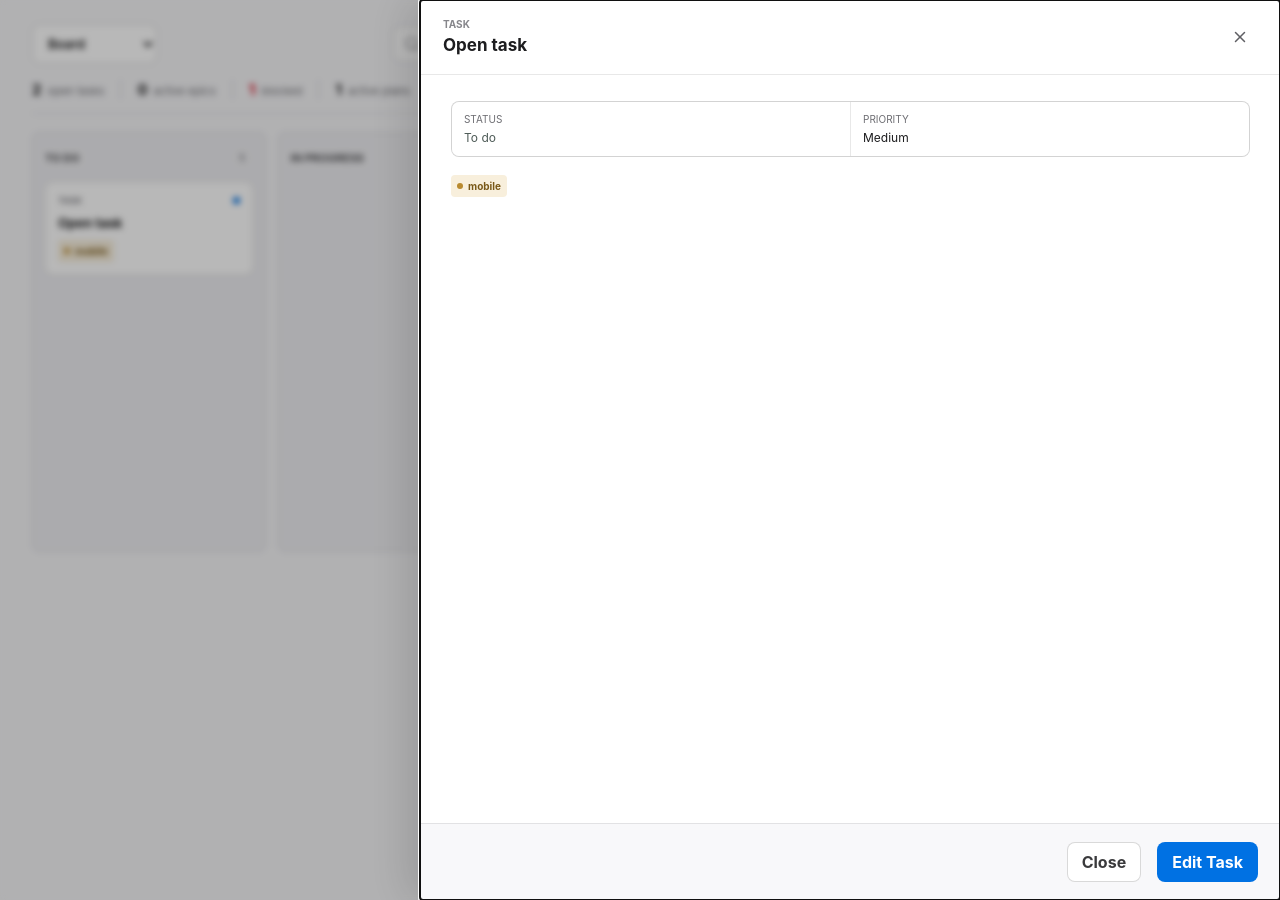
Test case: components › opens exact Work deep links and keeps the URL human handoff stable
expect the heading "Open task" is shown: met, box 443,34 -> 527,56
expect the button "Edit Task" is shown: met, box 1157,842 -> 1258,882
Click the button "Close".
click(1104, 862)  # box 1067,842 -> 1141,882
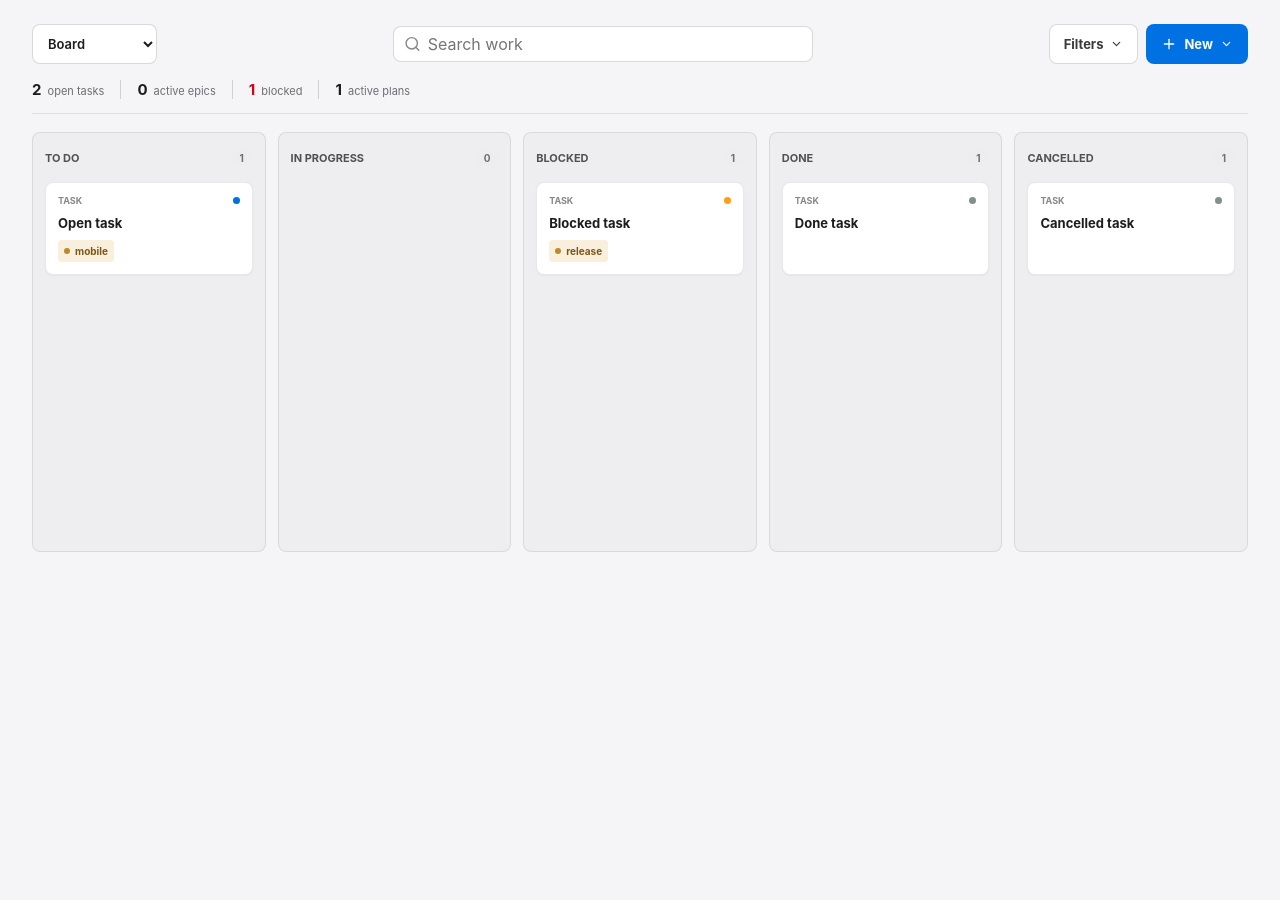
expect the dialog is gone: met
